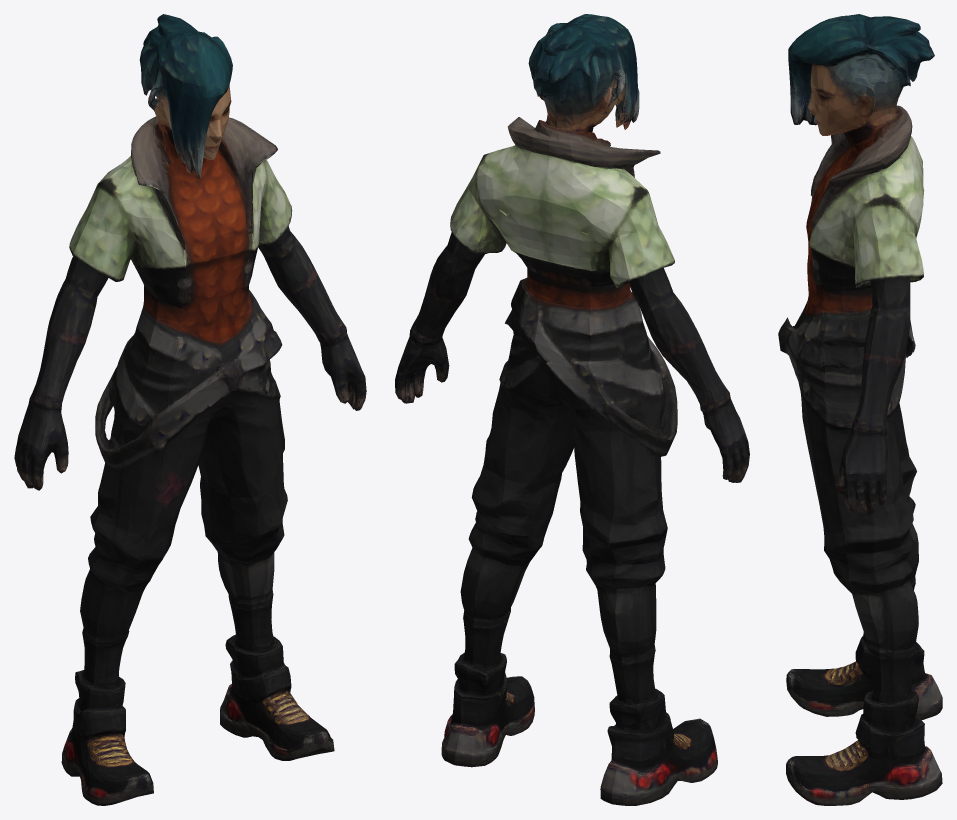
The model's file is Ichiro_Trellis_MultiView_2K.glb.
3 renders of one model, left to right at view 1: azimuth 30°, elevation 25°; view 2: azimuth 150°, elevation 25°; view 3: azimuth 270°, elevation 25°, orthographic.
Parts seen in each view (by area): view 1: world; view 2: world; view 3: world.
Boxes of the visible parts, left/top/right/bottom form: world: left=14, top=14, right=366, bottom=805; world: left=395, top=14, right=749, bottom=805; world: left=778, top=14, right=942, bottom=805.
Size of the model in its own units: 0.4844 by 0.9938 by 0.2034.
Materials: 1 (1 with a texture image).
